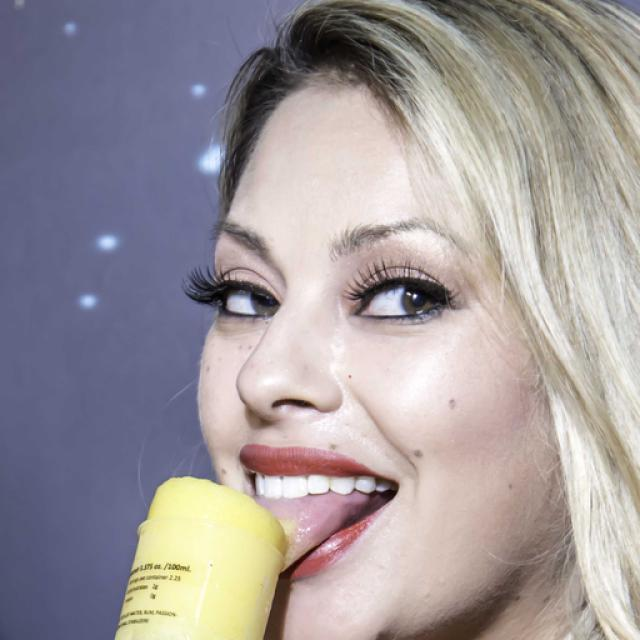happy: (197, 78, 555, 622)
